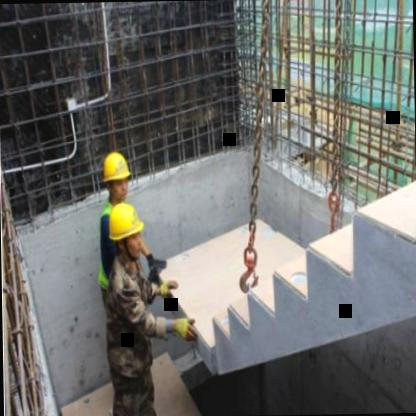helmet: (107, 196, 150, 267), (99, 145, 134, 205)
